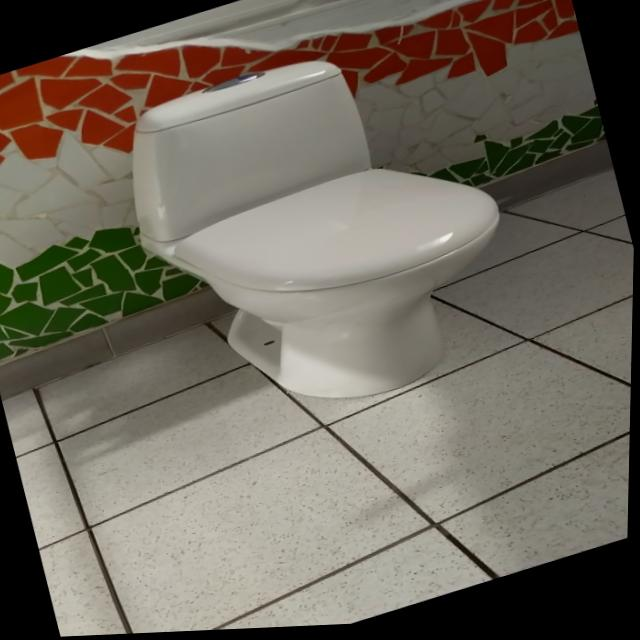toilet: (101, 11, 541, 458)
